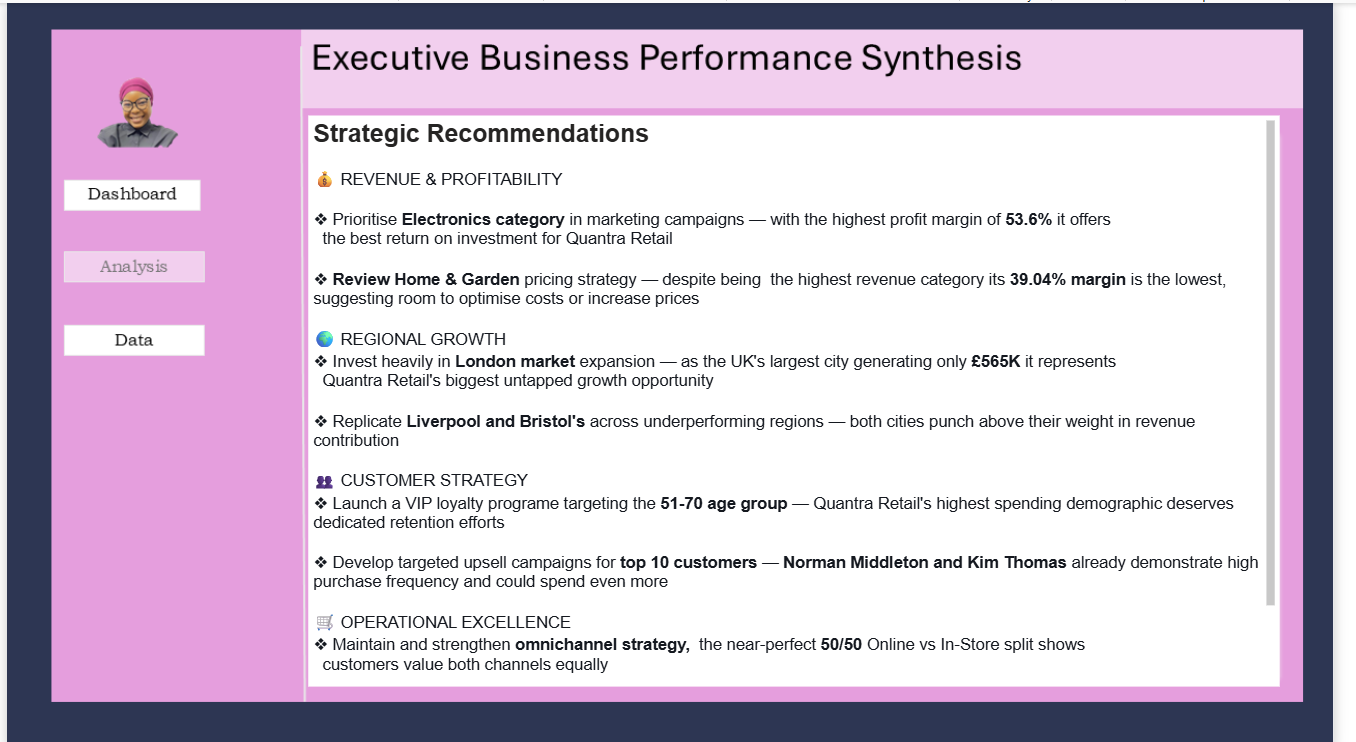

Layout of this report page (visuals, bound fields, positions):
{"tool":"powerbi","page":{"name":"Recommendations ","canvas":[1280,720],"ordinal":6},"visuals":[{"type":"textbox","box":[290.8,129.1,937.4,530.8],"z":0}]}

Visuals, with their boxes on the page's 1280x720 design canvas (x1, y1, x2, y2). These are canvas units, not pixel positions in the 1356x742 screenshot, which may show the page scaled, cropped or inside an application window:
textbox: rect(291, 129, 1228, 660)
